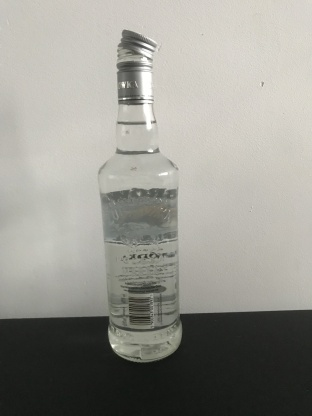nakretka: (115, 27, 158, 105)
